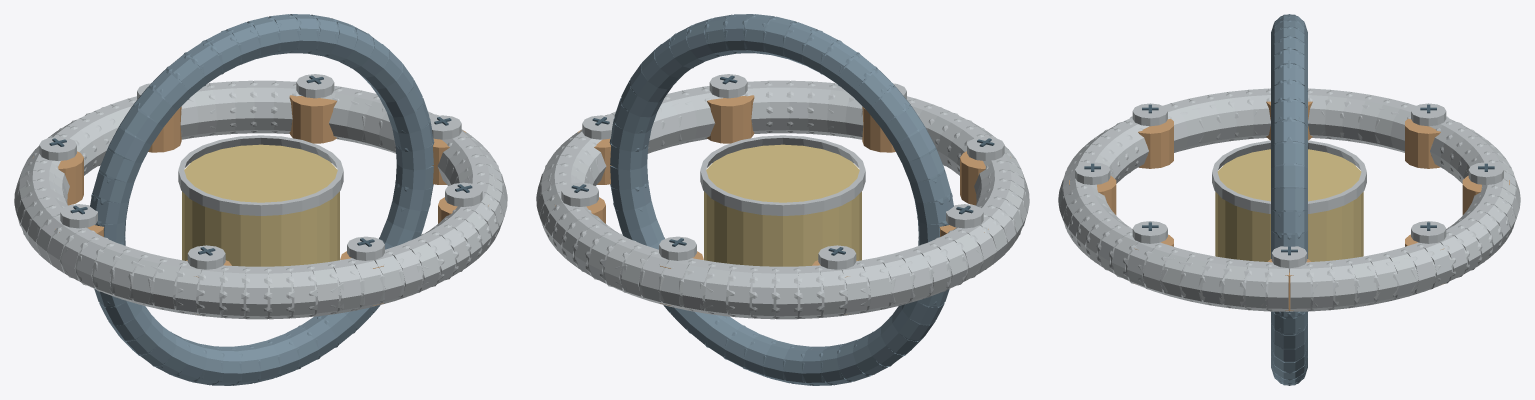
File: 06_L73_CarrierGimbalAssembly.glb
The picture shows the model from 3 angles, left to right: view 1: azimuth 30°, elevation 25°; view 2: azimuth 150°, elevation 25°; view 3: azimuth 270°, elevation 25°; orthographic projection. The views are drawn at different scales.
Visible parts, largest first — view 1: CarrierGimbalAssembly_Node_0258, CarrierGimbalAssembly_Node_0259, CarrierGimbalAssembly_Node_0254, CarrierGimbalAssembly_Node_0018, CarrierGimbalAssembly_Node_0025, CarrierGimbalAssembly_Node_0019, CarrierGimbalAssembly_Node_0021, CarrierGimbalAssembly_Node_0020, CarrierGimbalAssembly_Node_0017, CarrierGimbalAssembly_Node_0022, CarrierGimbalAssembly_Node_0053, CarrierGimbalAssembly_Node_0052 (+91 smaller); view 2: CarrierGimbalAssembly_Node_0258, CarrierGimbalAssembly_Node_0259, CarrierGimbalAssembly_Node_0230, CarrierGimbalAssembly_Node_0045, CarrierGimbalAssembly_Node_0038, CarrierGimbalAssembly_Node_0044, CarrierGimbalAssembly_Node_0042, CarrierGimbalAssembly_Node_0043, CarrierGimbalAssembly_Node_0046, CarrierGimbalAssembly_Node_0041, CarrierGimbalAssembly_Node_0010, CarrierGimbalAssembly_Node_0011 (+91 smaller); view 3: CarrierGimbalAssembly_Node_0258, CarrierGimbalAssembly_Node_0259, CarrierGimbalAssembly_Node_0238, CarrierGimbalAssembly_Node_0246, CarrierGimbalAssembly_Node_0001, CarrierGimbalAssembly_Node_0062, CarrierGimbalAssembly_Node_0000, CarrierGimbalAssembly_Node_0061, CarrierGimbalAssembly_Node_0063, CarrierGimbalAssembly_Node_0002, CarrierGimbalAssembly_Node_0003, CarrierGimbalAssembly_Node_0060 (+65 smaller).
Boxes of the visible parts, x1,y1,x2,y2 form: CarrierGimbalAssembly_Node_0258: (182, 144, 339, 266); CarrierGimbalAssembly_Node_0259: (178, 135, 343, 215); CarrierGimbalAssembly_Node_0254: (289, 95, 336, 143); CarrierGimbalAssembly_Node_0018: (309, 262, 338, 316); CarrierGimbalAssembly_Node_0025: (153, 257, 186, 312); CarrierGimbalAssembly_Node_0019: (289, 264, 315, 318); CarrierGimbalAssembly_Node_0021: (246, 266, 267, 319); CarrierGimbalAssembly_Node_0020: (267, 266, 291, 319); CarrierGimbalAssembly_Node_0017: (329, 259, 361, 313); CarrierGimbalAssembly_Node_0022: (222, 265, 246, 318); CarrierGimbalAssembly_Node_0053: (254, 80, 275, 133); CarrierGimbalAssembly_Node_0052: (231, 80, 254, 133); CarrierGimbalAssembly_Node_0258: (704, 144, 861, 266); CarrierGimbalAssembly_Node_0259: (700, 135, 865, 215); CarrierGimbalAssembly_Node_0230: (707, 95, 754, 143); CarrierGimbalAssembly_Node_0045: (705, 262, 734, 316); CarrierGimbalAssembly_Node_0038: (857, 257, 890, 312); CarrierGimbalAssembly_Node_0044: (728, 264, 754, 318); CarrierGimbalAssembly_Node_0042: (775, 266, 797, 319); CarrierGimbalAssembly_Node_0043: (752, 266, 776, 319); CarrierGimbalAssembly_Node_0046: (682, 259, 714, 313); CarrierGimbalAssembly_Node_0041: (797, 265, 821, 318); CarrierGimbalAssembly_Node_0010: (768, 80, 790, 133); CarrierGimbalAssembly_Node_0011: (789, 80, 812, 133); CarrierGimbalAssembly_Node_0258: (1215, 149, 1363, 261); CarrierGimbalAssembly_Node_0259: (1212, 140, 1366, 213); CarrierGimbalAssembly_Node_0238: (1138, 118, 1173, 168); CarrierGimbalAssembly_Node_0246: (1405, 118, 1440, 168); CarrierGimbalAssembly_Node_0001: (1245, 261, 1270, 311); CarrierGimbalAssembly_Node_0062: (1308, 261, 1333, 311); CarrierGimbalAssembly_Node_0000: (1268, 262, 1289, 311); CarrierGimbalAssembly_Node_0061: (1328, 259, 1355, 309); CarrierGimbalAssembly_Node_0063: (1289, 262, 1310, 311); CarrierGimbalAssembly_Node_0002: (1223, 259, 1250, 309); CarrierGimbalAssembly_Node_0003: (1202, 256, 1231, 307); CarrierGimbalAssembly_Node_0060: (1347, 256, 1376, 307).
Size of the model in its own units: 1.43 by 1.15 by 1.43.
